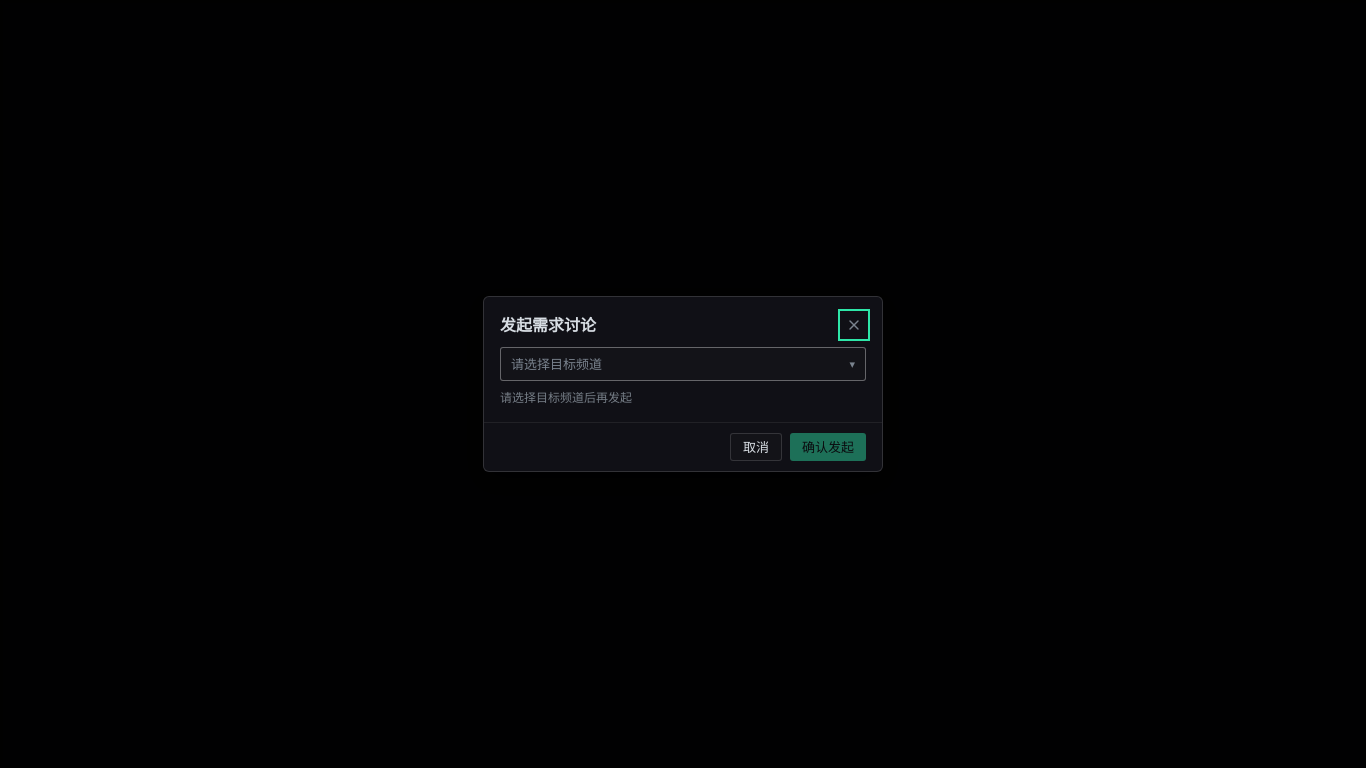
it: PublishProjectDialog #290 空成员语义与频道选项 › 真无响应者时警告出现，且文案写明「空成员 = 所有 Agent 可见」判定口径
Click the button "请选择目标频道 ▾" at (557, 364), box [500,347,866,381]
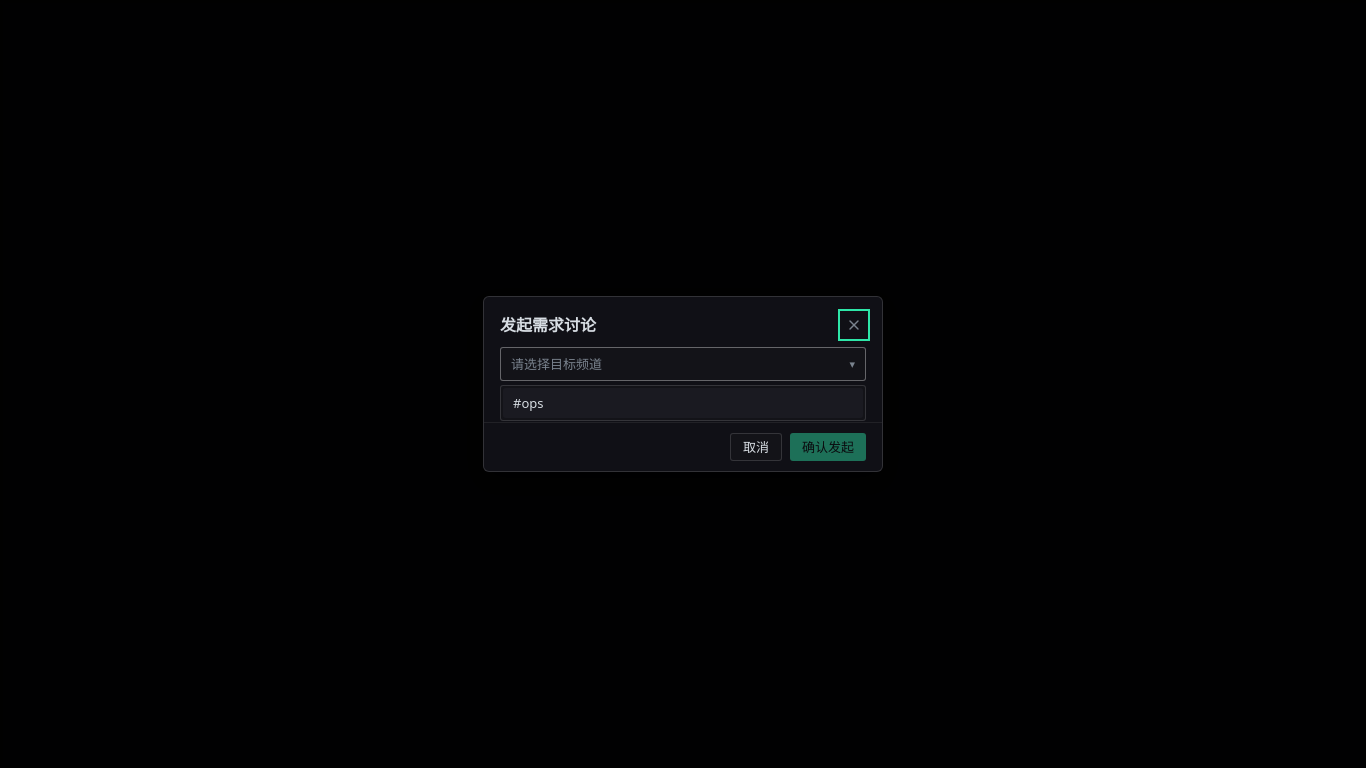
Click the option "#ops" at (528, 403), box [503,388,863,418]
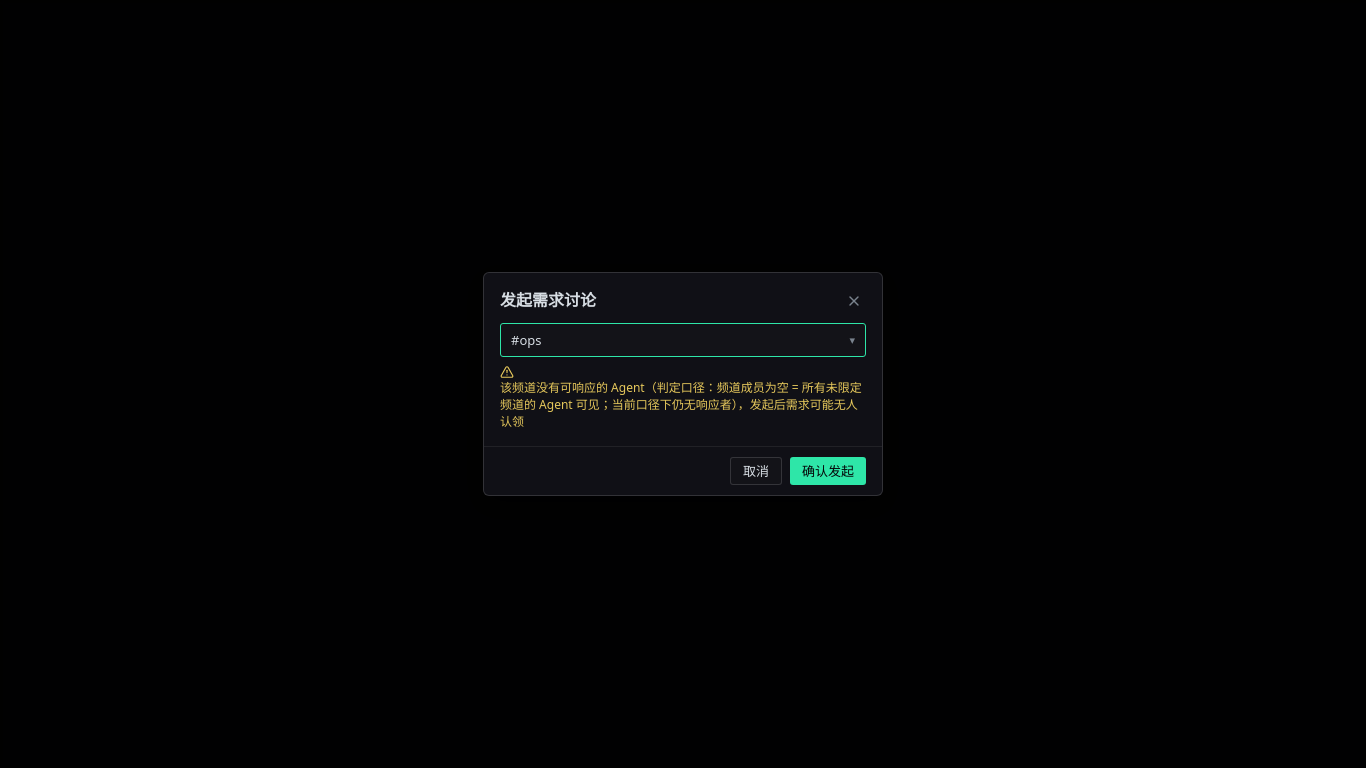
Expected: the text "没有可响应的 Agent" shows "频道成员为空 = 所有未限定频道的 Agent 可见", [500,379,862,430]
